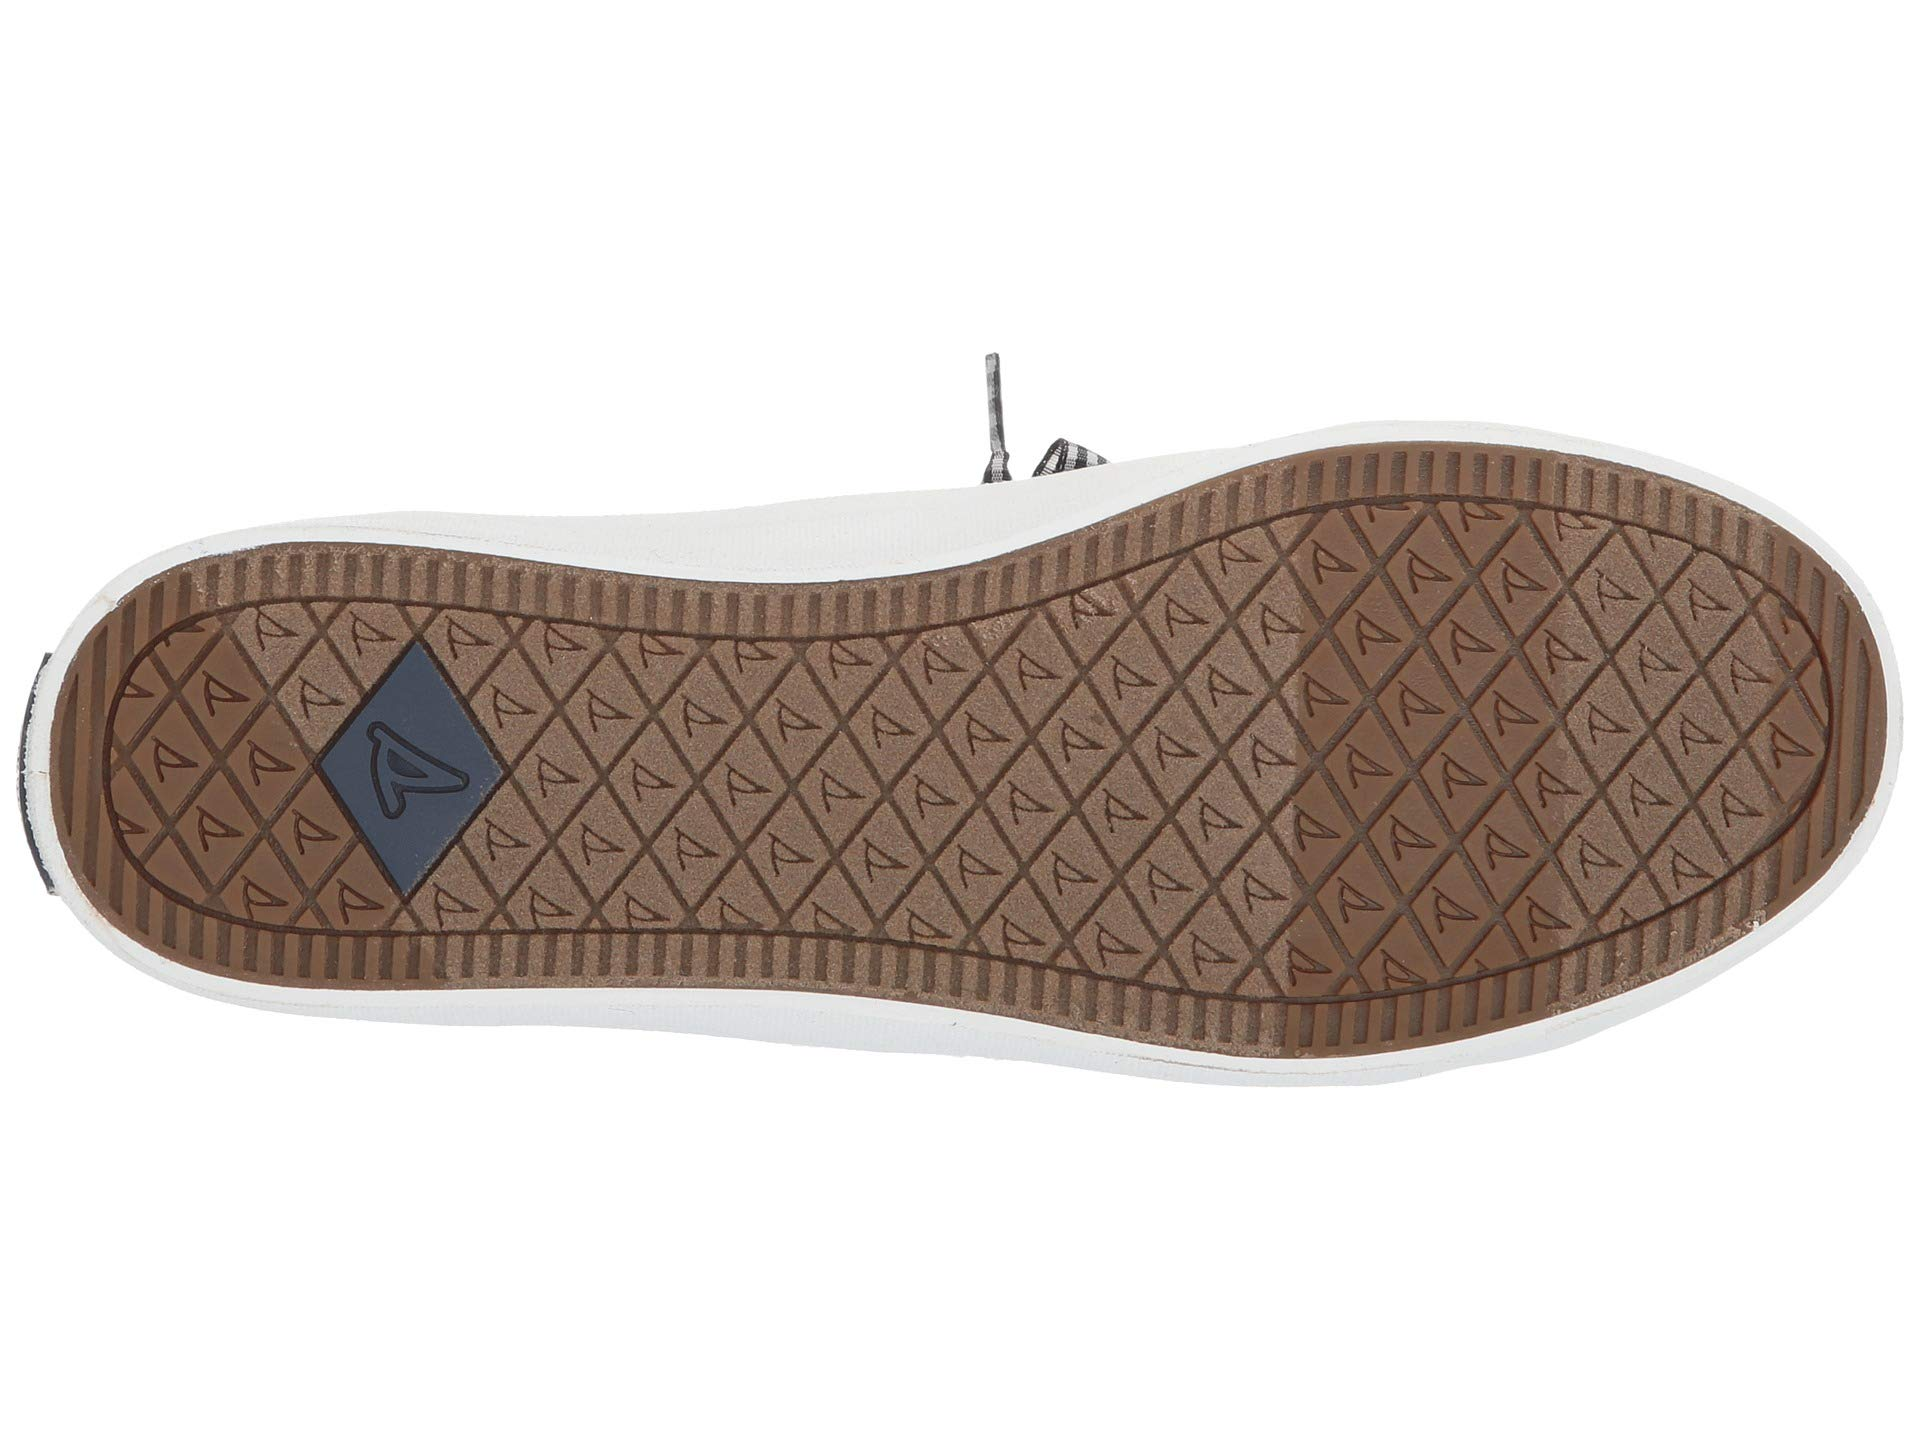quad: (1176, 546, 1616, 959), (268, 620, 573, 948)
text: (1176, 546, 1616, 959), (268, 620, 573, 948)
triangle: (1176, 546, 1616, 959), (268, 620, 573, 948)
